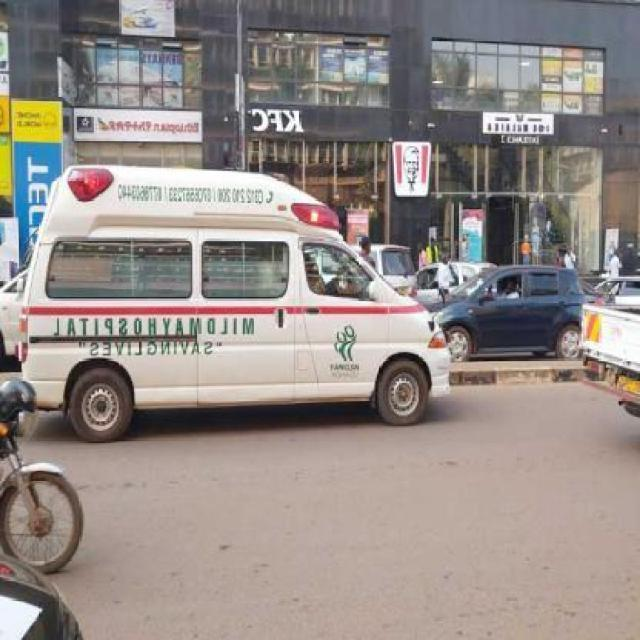emergency: (16, 164, 452, 443)
